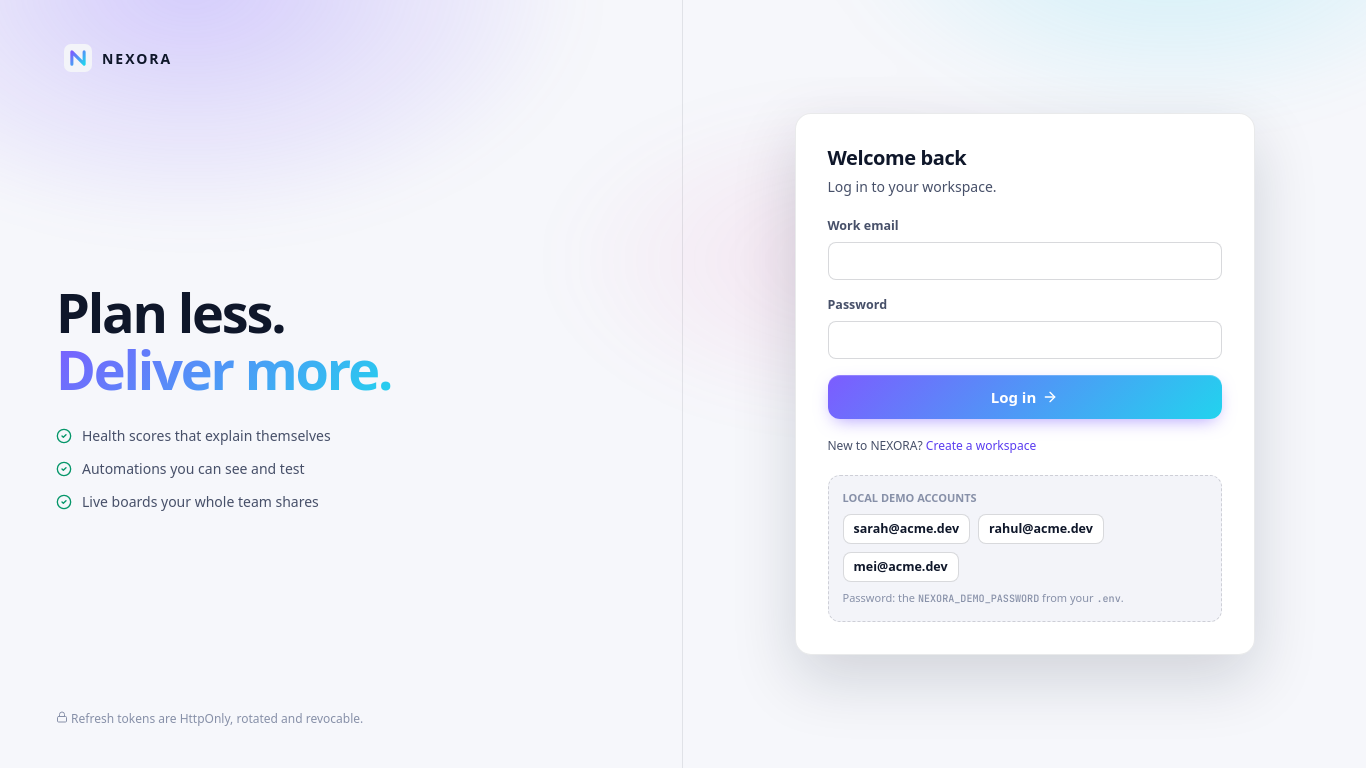
Test: LoginPage › shows the server message on bad credentials
Step 1. Type "sarah@acme.dev" into the field labelled "Work email" → (1024, 261), box [828,242,1222,280]
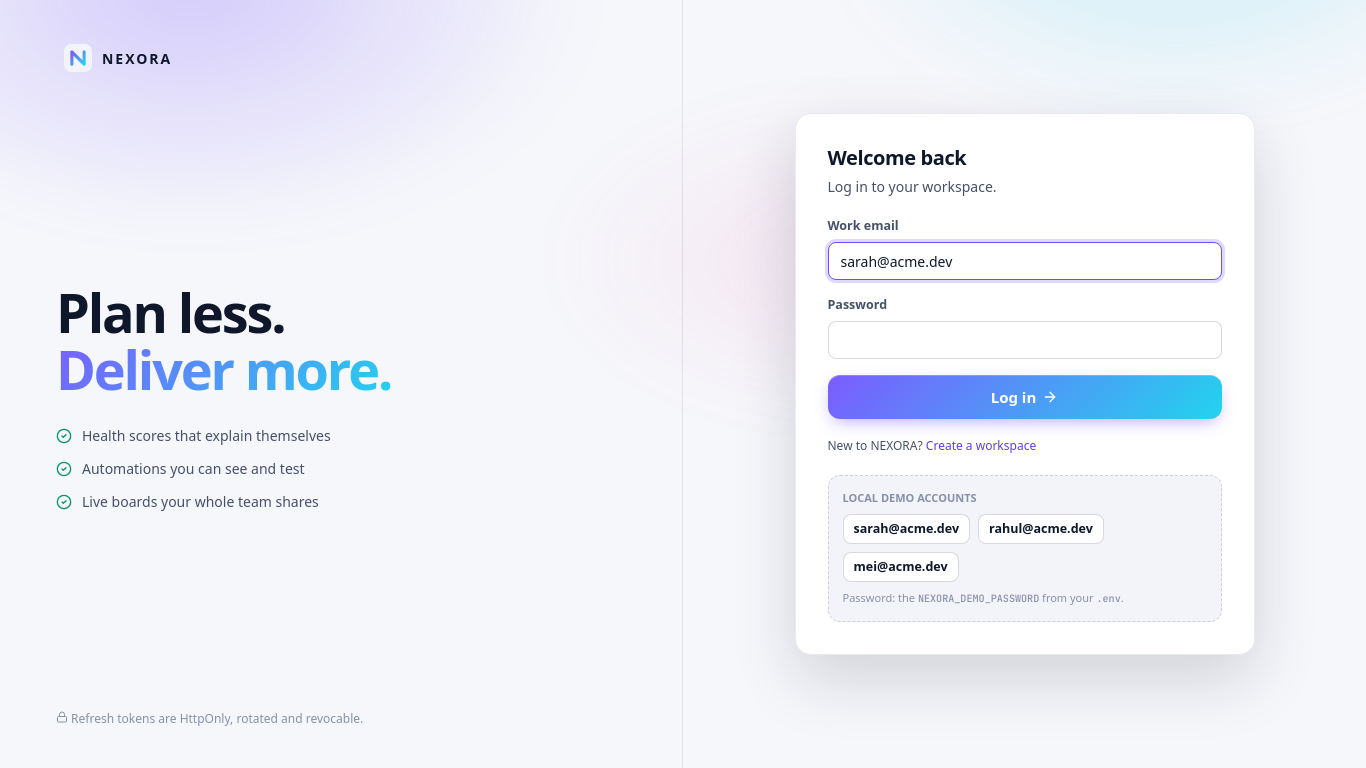
Step 2. Type "wrong-pass1" into the password field labelled "Password" → (1024, 340), box [828,321,1222,359]
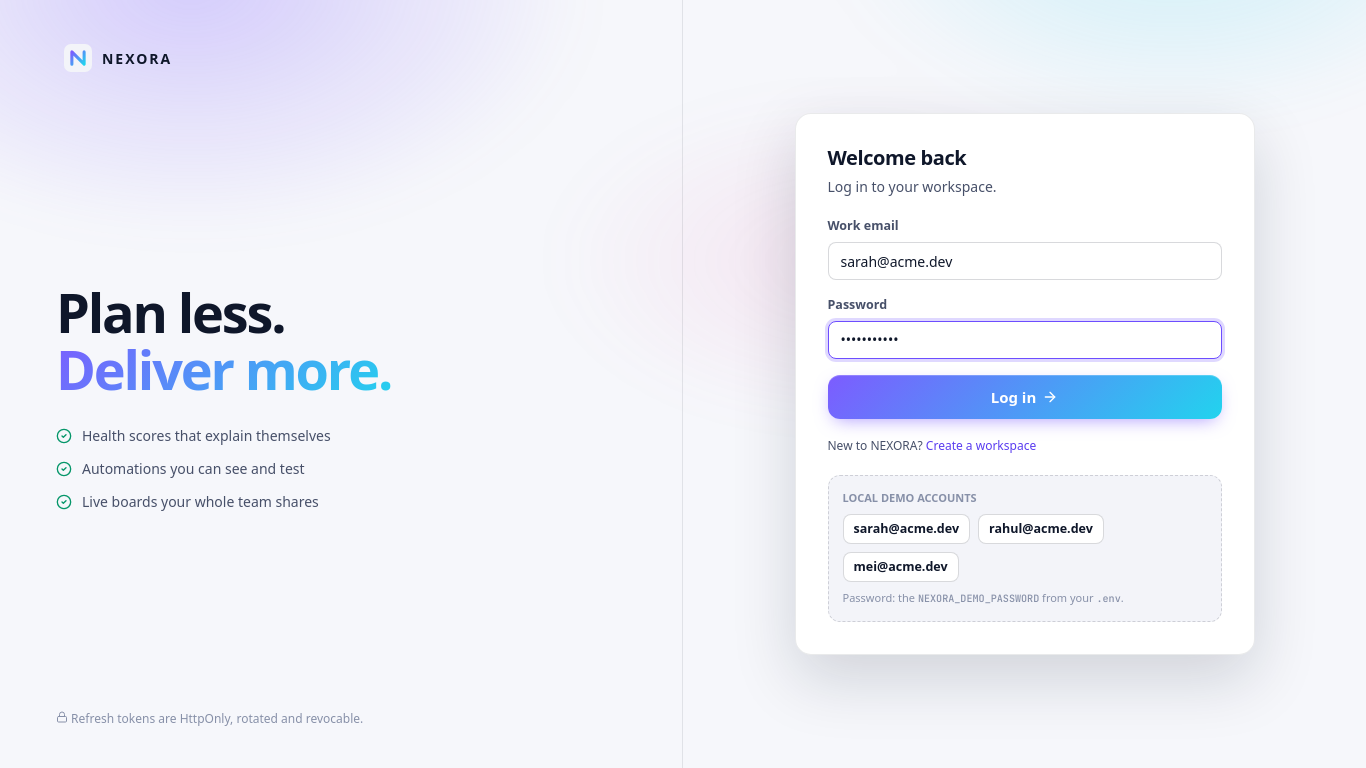
Step 3. Click the button "Log in" → click(1024, 397), box [828,375,1222,419]
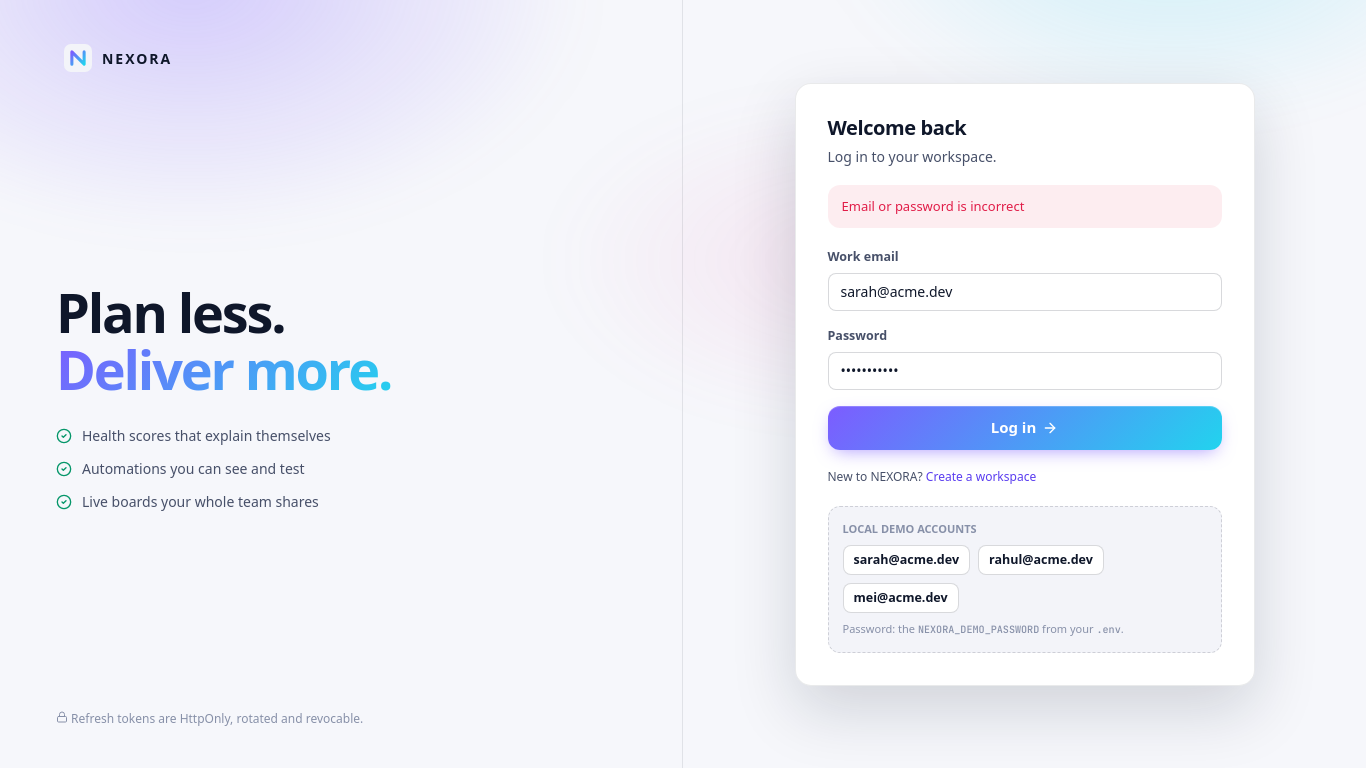
Now the message reads "Email or password is incorrect", box [842,196,1024,214]
